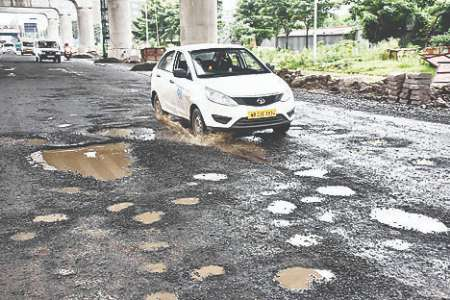pothole: (30, 125, 129, 194), (21, 148, 151, 188), (360, 189, 438, 254), (268, 263, 335, 292), (348, 130, 406, 151), (188, 258, 228, 287), (314, 182, 363, 205), (265, 192, 299, 223), (1, 228, 45, 246), (131, 206, 159, 232), (132, 258, 166, 276), (129, 285, 175, 298), (28, 209, 72, 222), (130, 237, 161, 255), (101, 201, 131, 210)
